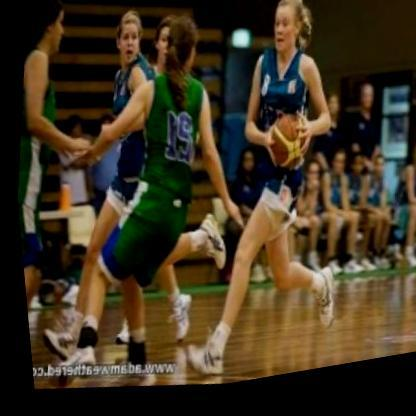basketball: (257, 114, 315, 188)
